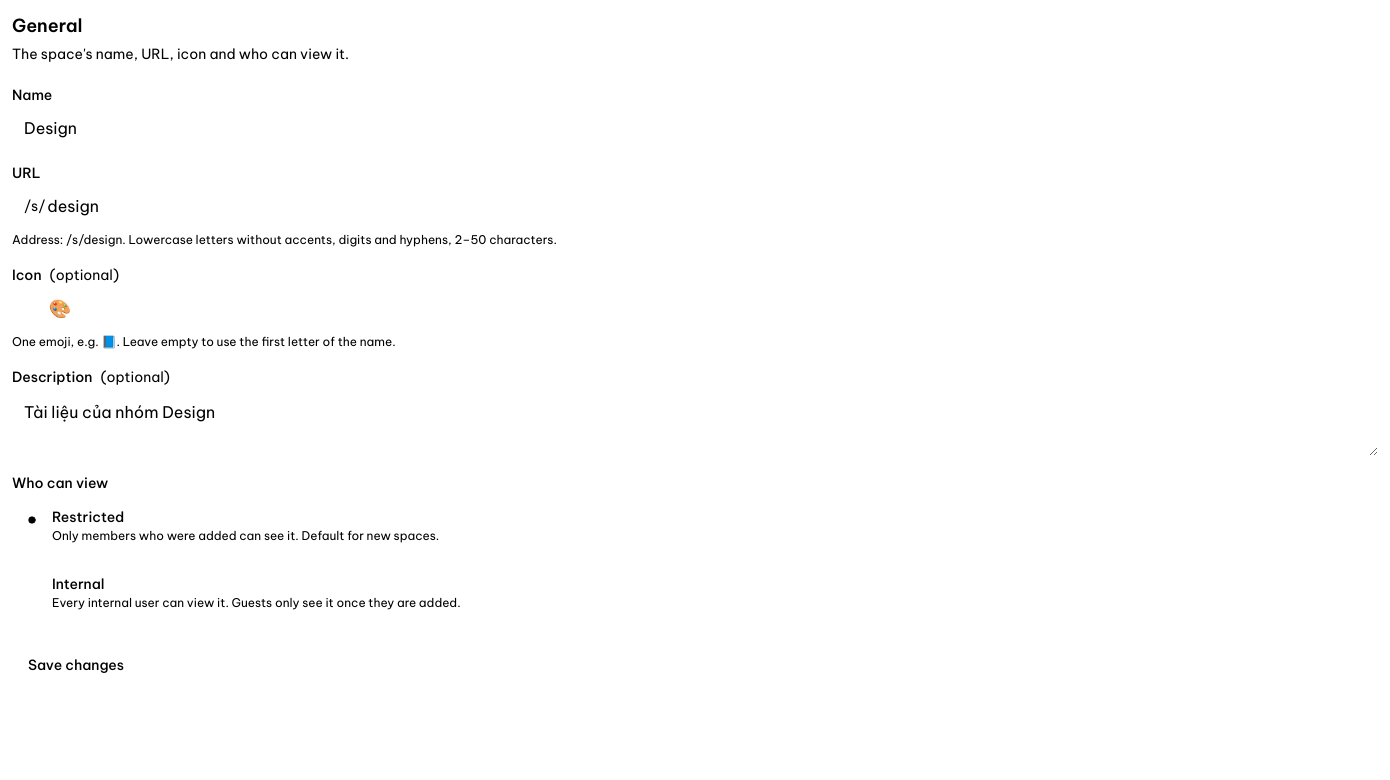
Scenario: SpaceSettingsForm › shows a translated error for a non-admin
Click the button "Save changes".
click(76, 665)  # box [12,647,140,683]
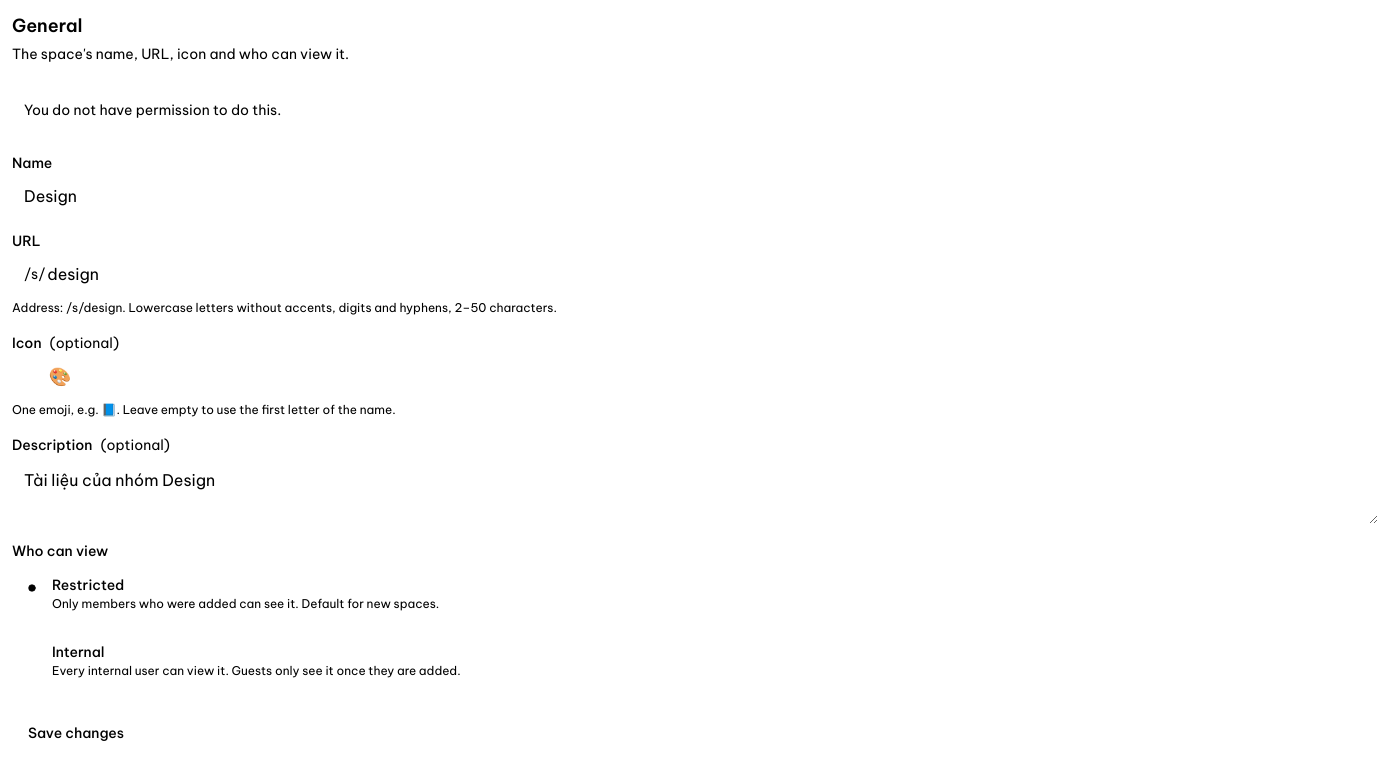
Now the message reads "You do not have permission to do this.", box [24,101,281,119]
